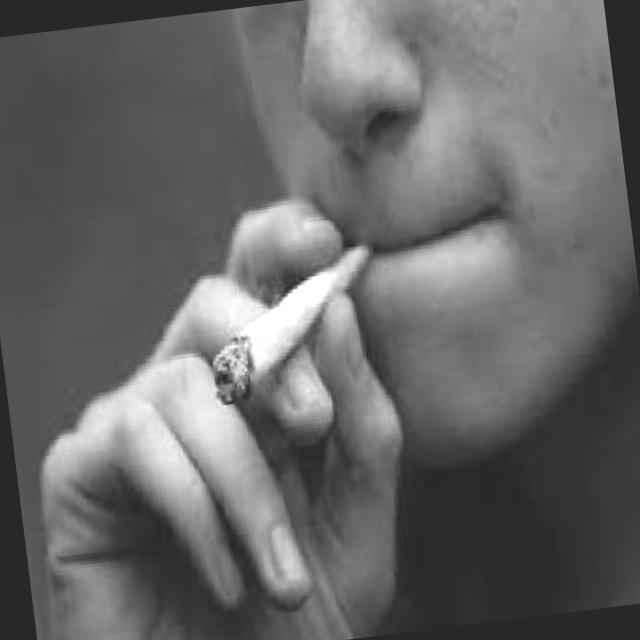cigarette: (202, 235, 389, 408)
